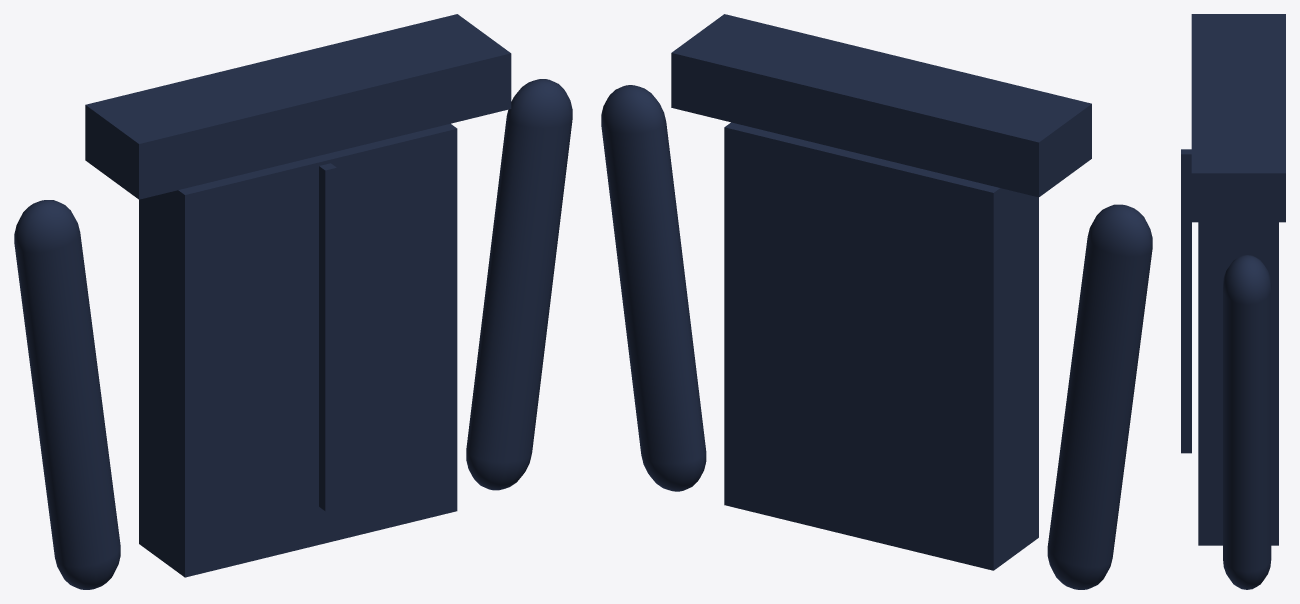
File: single-breasted-one-button.glb
The picture shows the model from 3 angles, left to right: view 1: azimuth 30°, elevation 25°; view 2: azimuth 150°, elevation 25°; view 3: azimuth 270°, elevation 25°; orthographic projection. The views are drawn at different scales.
Visible parts, largest first — view 1: Jacket_SingleBreastedOneButton, Shoulder_SingleBreastedOneButton, Sleeve_Right_SingleBreastedOneButton, Sleeve_Left_SingleBreastedOneButton, Jacket_FrontEdge_SingleBreastedOneButton; view 2: Jacket_SingleBreastedOneButton, Shoulder_SingleBreastedOneButton, Sleeve_Right_SingleBreastedOneButton, Sleeve_Left_SingleBreastedOneButton; view 3: Shoulder_SingleBreastedOneButton, Sleeve_Right_SingleBreastedOneButton, Jacket_SingleBreastedOneButton, Jacket_FrontEdge_SingleBreastedOneButton.
Part boxes in pixels (x1,y1,x2,y2): Jacket_SingleBreastedOneButton: (139, 123, 457, 577); Shoulder_SingleBreastedOneButton: (85, 14, 511, 199); Sleeve_Right_SingleBreastedOneButton: (466, 79, 572, 490); Sleeve_Left_SingleBreastedOneButton: (14, 200, 120, 589); Jacket_FrontEdge_SingleBreastedOneButton: (319, 163, 336, 511); Jacket_SingleBreastedOneButton: (724, 122, 1038, 570); Shoulder_SingleBreastedOneButton: (671, 14, 1091, 197); Sleeve_Right_SingleBreastedOneButton: (601, 85, 706, 491); Sleeve_Left_SingleBreastedOneButton: (1047, 204, 1152, 589); Shoulder_SingleBreastedOneButton: (1191, 14, 1285, 222); Sleeve_Right_SingleBreastedOneButton: (1223, 255, 1271, 589); Jacket_SingleBreastedOneButton: (1198, 222, 1278, 545); Jacket_FrontEdge_SingleBreastedOneButton: (1181, 149, 1191, 453).
Bounding box in the file's own units: 1.66 × 1.33 × 0.311.
